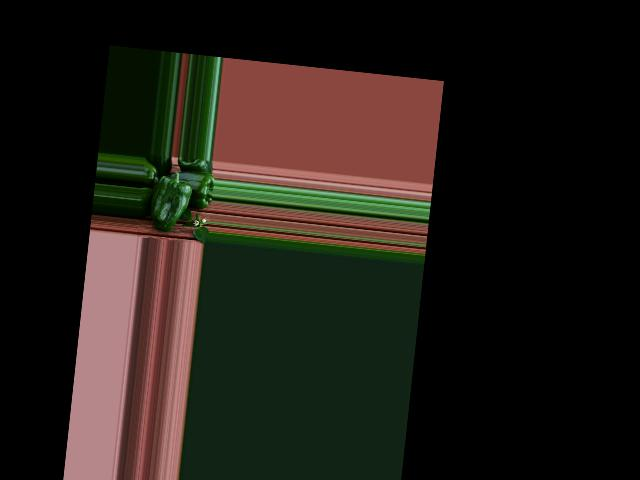bell_pepper: (141, 156, 162, 184)
